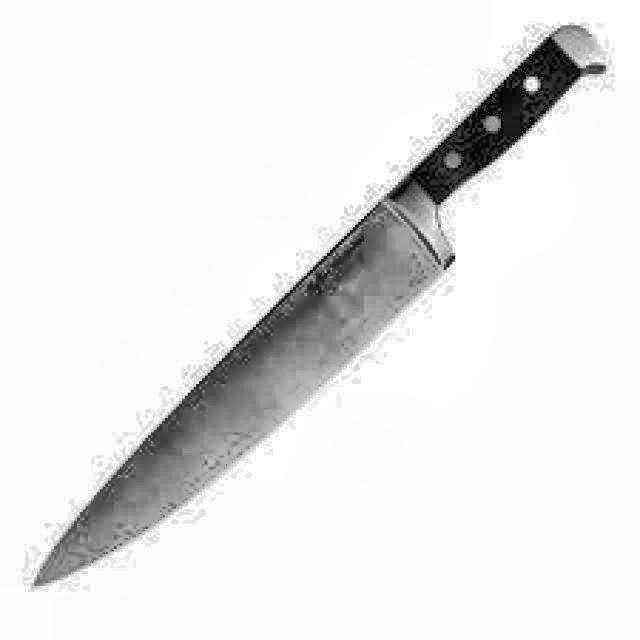knife: (26, 19, 609, 593)
